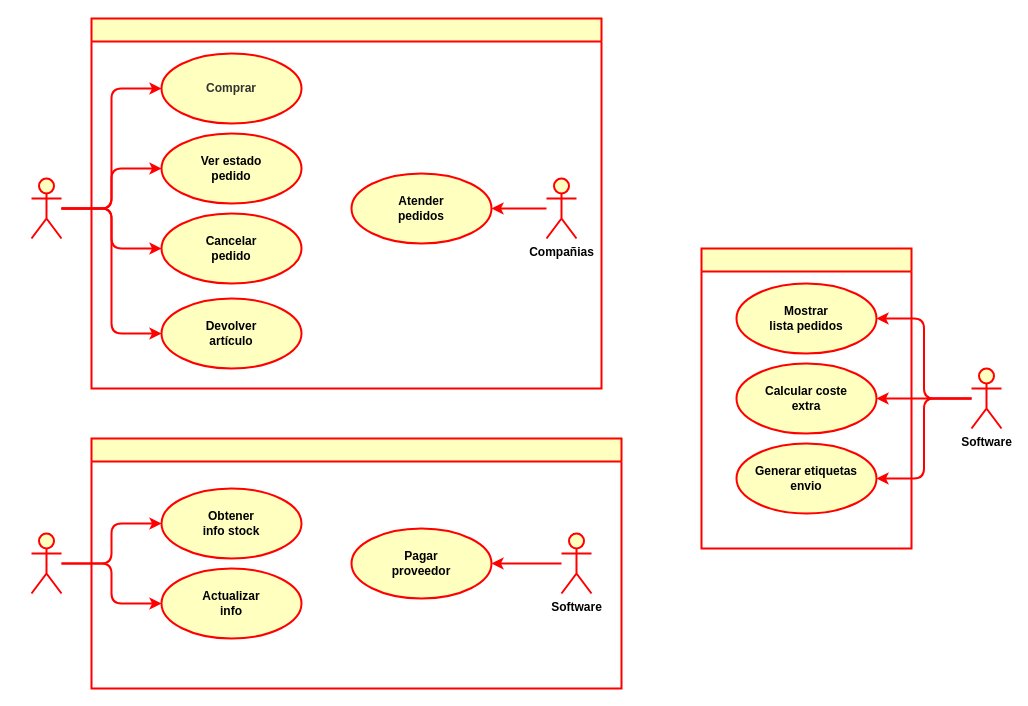
The diagram is 1028 pixels wide and 706 high, and some of its shapes have lost their labels. Here are the shapes that lost their labels. From the top down, the centre of each, then its label:
At (46,208): "Cliente".
At (346,203): "Realizar compras".
At (806,398): "Gestión Interna".
At (46,563): "Proveedor".
At (356,563): "Stock y ventas".
